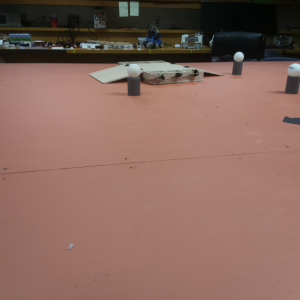obstacle: (283, 62, 300, 93), (128, 64, 139, 94), (232, 50, 243, 74)
side: (146, 70, 204, 82)
